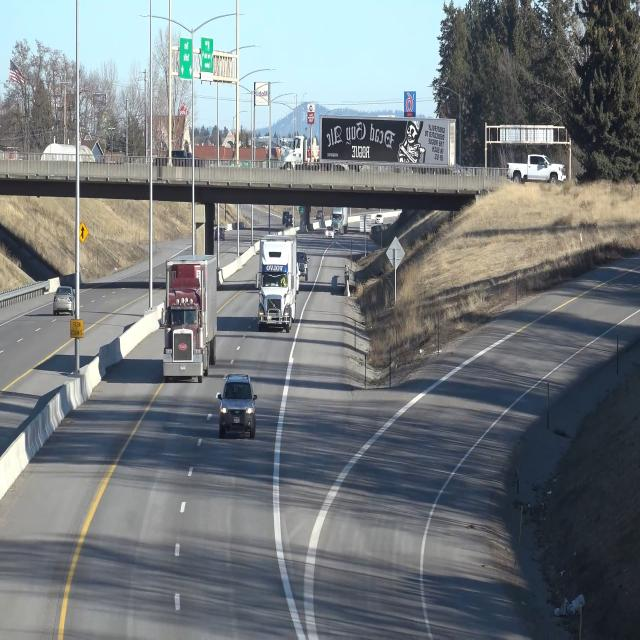Car: (162, 254, 220, 381), (254, 233, 298, 332), (217, 374, 256, 438), (52, 282, 80, 322)
